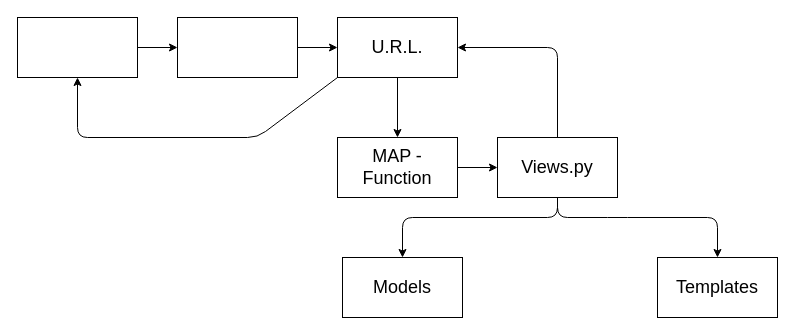
The diagram is 795 pixels wide and 335 high, and some of its shapes have lost their labels. Each missing label, with the centre of its shape:
"HTTP request" goes at pixel 237 47.
"User" goes at pixel 77 47.
